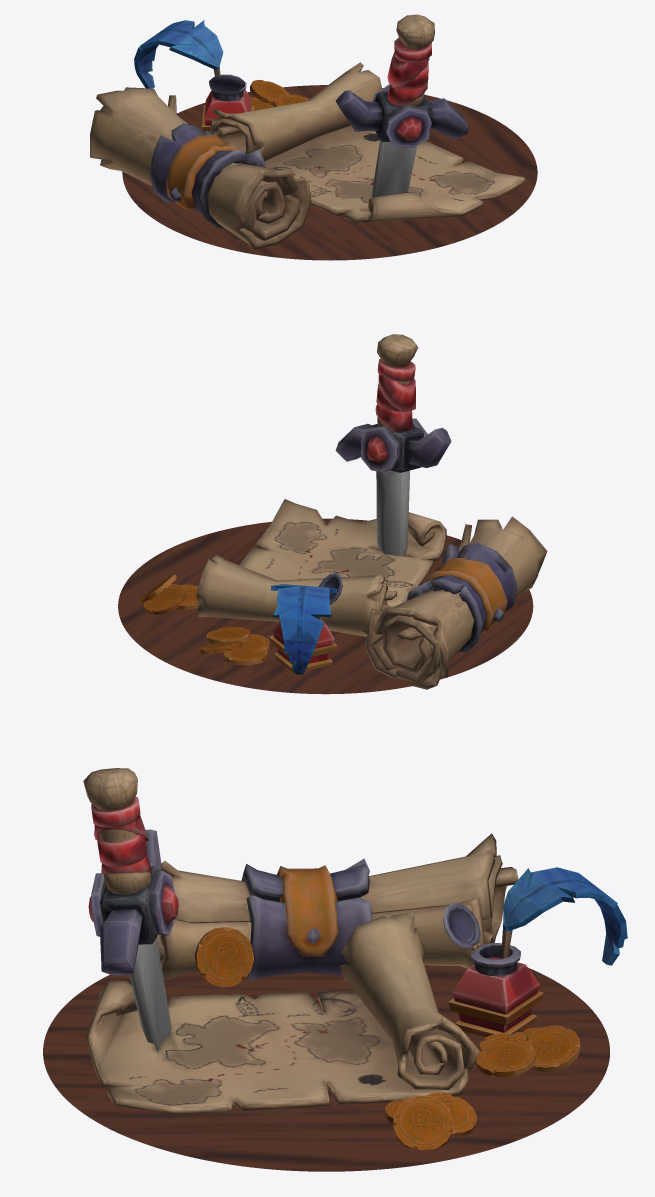
The model's file is FullScene.fbx.
3 views of the same model, one above another, from view 1: azimuth 30°, elevation 25°; view 2: azimuth 150°, elevation 25°; view 3: azimuth 270°, elevation 25° (orthographic). The views are drawn at different scales.
Parts seen in each view (by area): view 1: Plane.016, Plane.017, Plane.018, Cube.015, Cube.016, Cylinder.041; view 2: Plane.018, Plane.016, Plane.017, Cube.015, Cube.016, Cylinder.048, Cylinder.042, Cylinder.038; view 3: Plane.016, Plane.018, Plane.017, Cube.015, Cube.016, Cylinder.050, Cylinder.049, Cylinder.041, Cylinder.042, Cylinder.048.
Boxes of the visible parts, x1,y1,x2,y2 form: Plane.016: [210, 62, 525, 223]; Plane.017: [90, 87, 311, 249]; Plane.018: [122, 85, 537, 260]; Cube.015: [335, 14, 468, 221]; Cube.016: [134, 20, 254, 132]; Cylinder.041: [250, 79, 290, 105]; Plane.018: [118, 518, 533, 694]; Plane.016: [196, 499, 446, 636]; Plane.017: [365, 516, 547, 689]; Cube.015: [335, 334, 451, 555]; Cube.016: [269, 573, 342, 674]; Cylinder.048: [144, 584, 186, 614]; Cylinder.042: [206, 627, 250, 643]; Cylinder.038: [223, 649, 267, 665]; Plane.016: [86, 912, 479, 1113]; Plane.018: [43, 965, 609, 1171]; Plane.017: [157, 833, 518, 981]; Cube.015: [83, 768, 178, 1051]; Cube.016: [443, 867, 627, 1037]; Cylinder.050: [194, 927, 253, 987]; Cylinder.049: [393, 1095, 453, 1149]; Cylinder.041: [524, 1025, 580, 1072]; Cylinder.042: [475, 1039, 535, 1077]; Cylinder.048: [425, 1092, 476, 1137].
Size of the model in its own units: 362 by 204 by 362.
3 materials, 3 textured.
